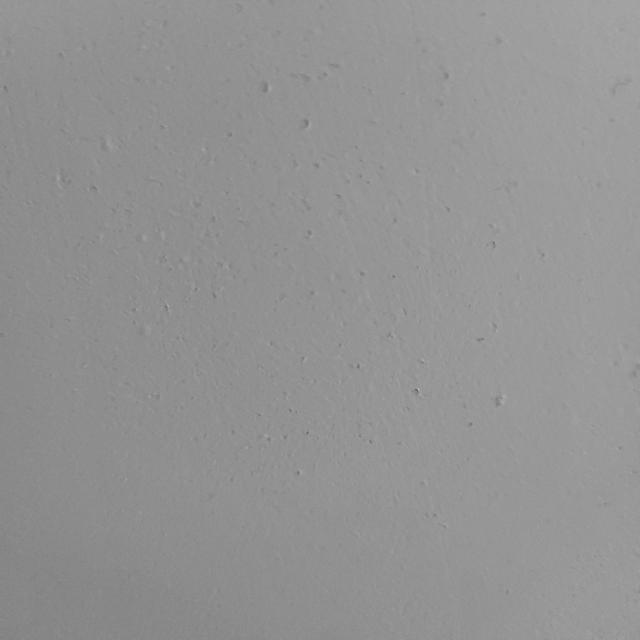rough and patchy surface: (102, 16, 569, 554), (4, 58, 106, 248)
